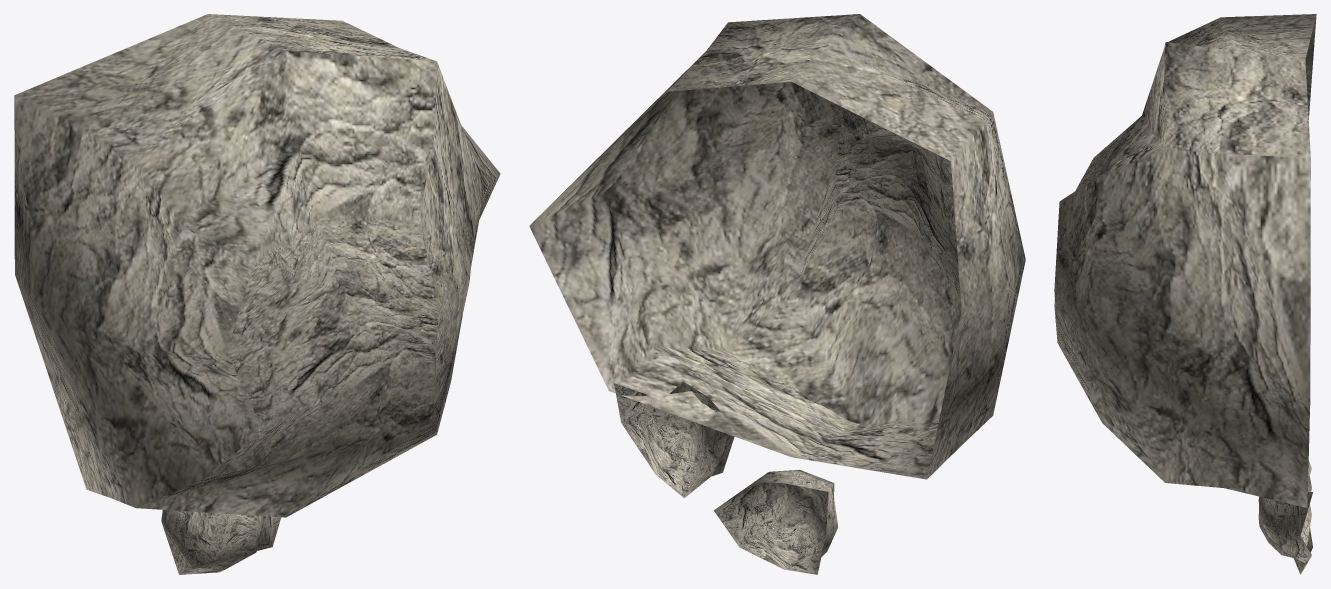
The model's file is stone.obj.
3 renders of one model, left to right at view 1: azimuth 30°, elevation 25°; view 2: azimuth 150°, elevation 25°; view 3: azimuth 270°, elevation 25°, orthographic. The views are drawn at different scales.
Visible parts, largest first — view 1: Cube; view 2: Cube; view 3: Cube.
Part boxes in pixels (<box>): Cube: <box>14,14,500,574</box>; Cube: <box>529,14,1025,574</box>; Cube: <box>1054,14,1316,574</box>.
Bounding box in the file's own units: 3.83 × 4.18 × 1.93.
1 material, 1 textured.
